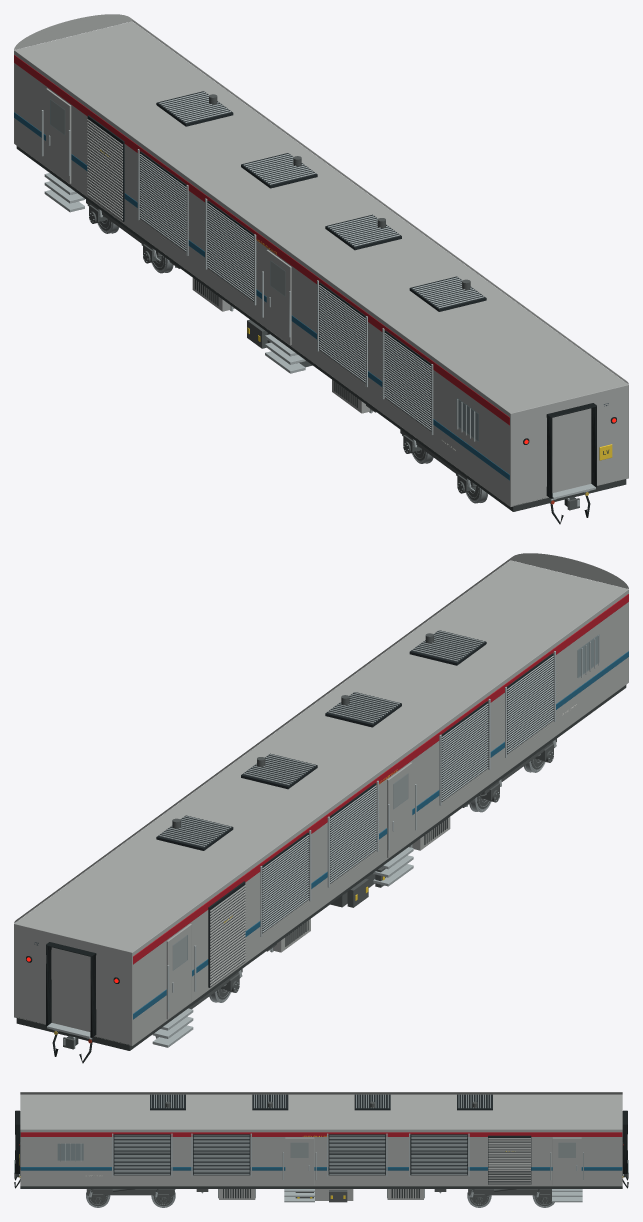
Rendered from lhb_eog.glb.
3 views of the same model, one above another, from view 1: azimuth 30°, elevation 25°; view 2: azimuth 150°, elevation 25°; view 3: azimuth 270°, elevation 25° (orthographic). The views are drawn at different scales.
Parts seen in each view (by area): view 1: EOG_body_and_roof, EOG_radiators_louvres_and_doors, Gangway_-1, Underfloor_tanks_battery_brake_pipes, FIAT_Frame_2, FIAT_Frame_1; view 2: EOG_body_and_roof, EOG_radiators_louvres_and_doors, Gangway_1, Underfloor_tanks_battery_brake_pipes, FIAT_Frame_2; view 3: EOG_body_and_roof, EOG_radiators_louvres_and_doors, Underfloor_tanks_battery_brake_pipes, FIAT_Frame_2, FIAT_Frame_1, Gangway_1, Gangway_-1, Wheels_2_2.
Part boxes in pixels (x1,y1,x2,y2): EOG_body_and_roof: (14, 14, 628, 511); EOG_radiators_louvres_and_doors: (41, 88, 486, 441); Gangway_-1: (523, 403, 616, 524); Underfloor_tanks_battery_brake_pipes: (169, 261, 376, 413); FIAT_Frame_2: (400, 430, 476, 493); FIAT_Frame_1: (86, 199, 162, 263); EOG_body_and_roof: (14, 553, 628, 1050); EOG_radiators_louvres_and_doors: (152, 630, 599, 1047); Gangway_1: (26, 942, 119, 1063); Underfloor_tanks_battery_brake_pipes: (266, 800, 473, 952); FIAT_Frame_2: (479, 738, 556, 802); EOG_body_and_roof: (20, 1092, 622, 1188); EOG_radiators_louvres_and_doors: (58, 1094, 583, 1202); Underfloor_tanks_battery_brake_pipes: (196, 1189, 446, 1202); FIAT_Frame_2: (86, 1189, 174, 1204); FIAT_Frame_1: (468, 1189, 551, 1204); Gangway_1: (622, 1110, 628, 1188); Gangway_-1: (14, 1110, 20, 1188); Wheels_2_2: (151, 1192, 175, 1207).
Size of the model in its own units: 3.48 by 4.36 by 24.03.
